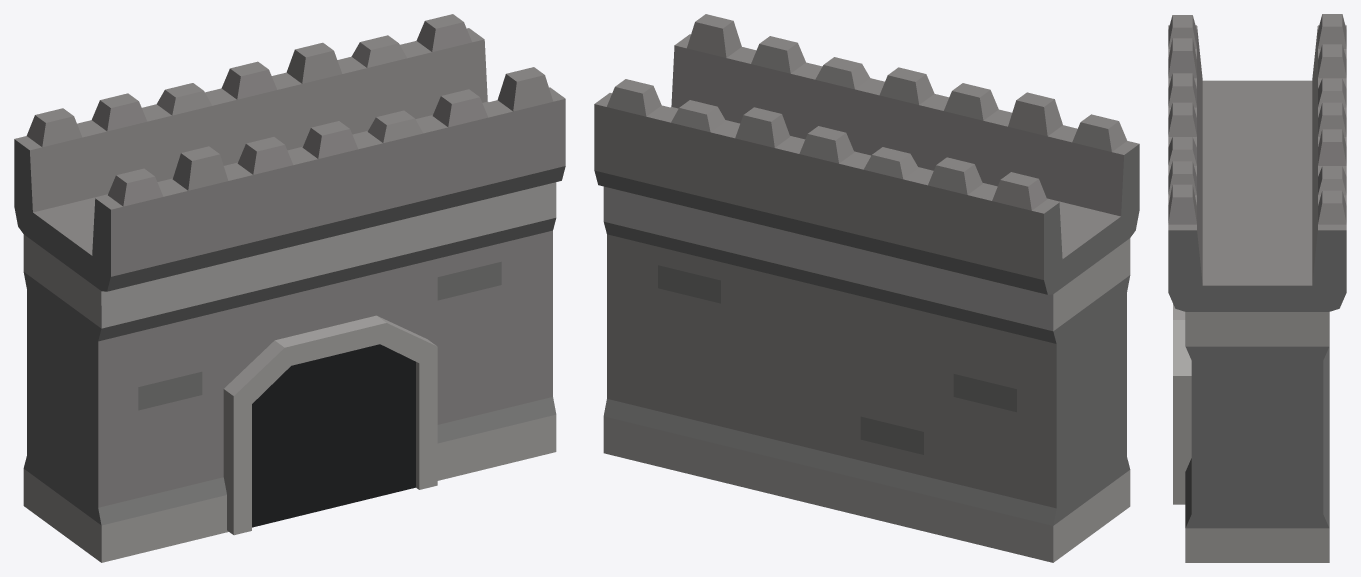
File: SM_Bld_Knights_Castle_01.glb
3 renders of one model, left to right at view 1: azimuth 30°, elevation 25°; view 2: azimuth 150°, elevation 25°; view 3: azimuth 270°, elevation 25°, orthographic. The views are drawn at different scales.
Parts seen in each view (by area): view 1: SM_Bld_Knights_Castle_01; view 2: SM_Bld_Knights_Castle_01; view 3: SM_Bld_Knights_Castle_01.
Boxes of the visible parts, box(x1,y1,x2,y2) form: SM_Bld_Knights_Castle_01: box(14, 14, 565, 562); SM_Bld_Knights_Castle_01: box(594, 14, 1139, 562); SM_Bld_Knights_Castle_01: box(1168, 14, 1346, 562).
Size of the model in its own units: 1.54 by 1.25 by 0.5651.
Materials: 1 (1 with a texture image).
